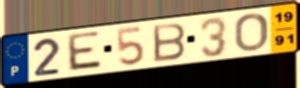2: (29, 34, 65, 80)
3: (199, 15, 228, 59)
5: (115, 24, 147, 68)
B: (150, 21, 188, 64)
E: (65, 30, 105, 73)
O: (233, 12, 270, 53)
